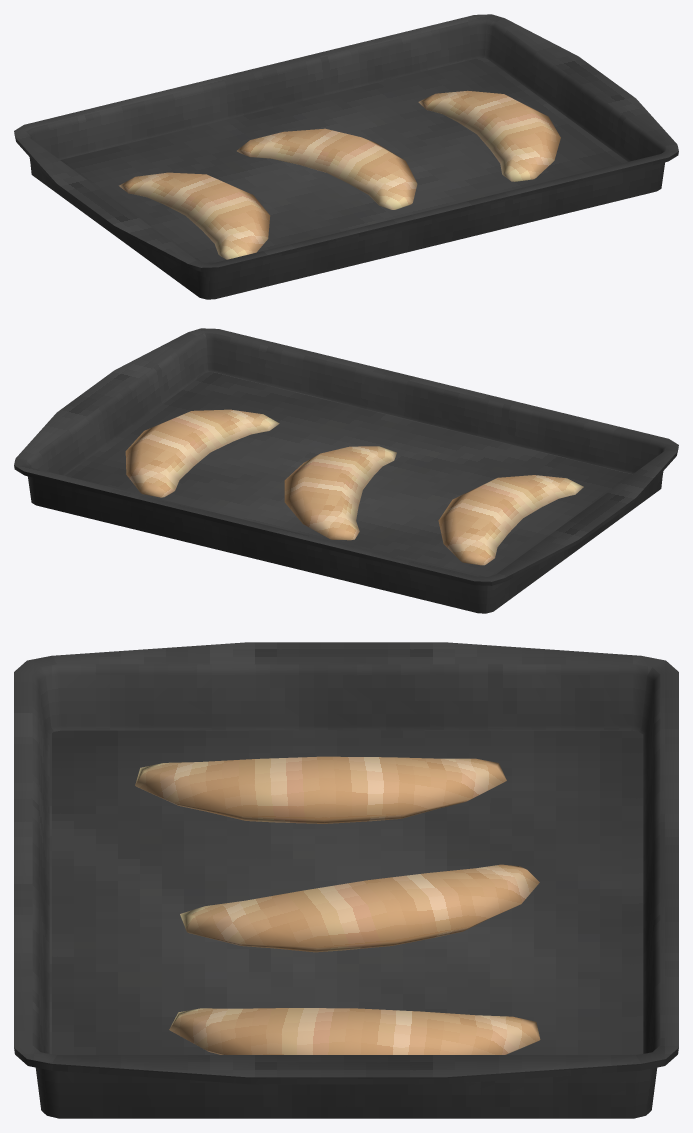
File: BakingTrayCroissant.fbx
3 views of the same model, one above another, from view 1: azimuth 30°, elevation 25°; view 2: azimuth 150°, elevation 25°; view 3: azimuth 270°, elevation 25° (orthographic). The views are drawn at different scales.
Parts seen in each view (by area): view 1: CroissantTray; view 2: CroissantTray; view 3: CroissantTray.
Boxes of the visible parts, box(x1,y1,x2,y2) form: CroissantTray: box(14, 14, 678, 299); CroissantTray: box(14, 328, 678, 613); CroissantTray: box(14, 642, 678, 1118).
Size of the model in its own units: 102 by 7.31 by 66.19.
